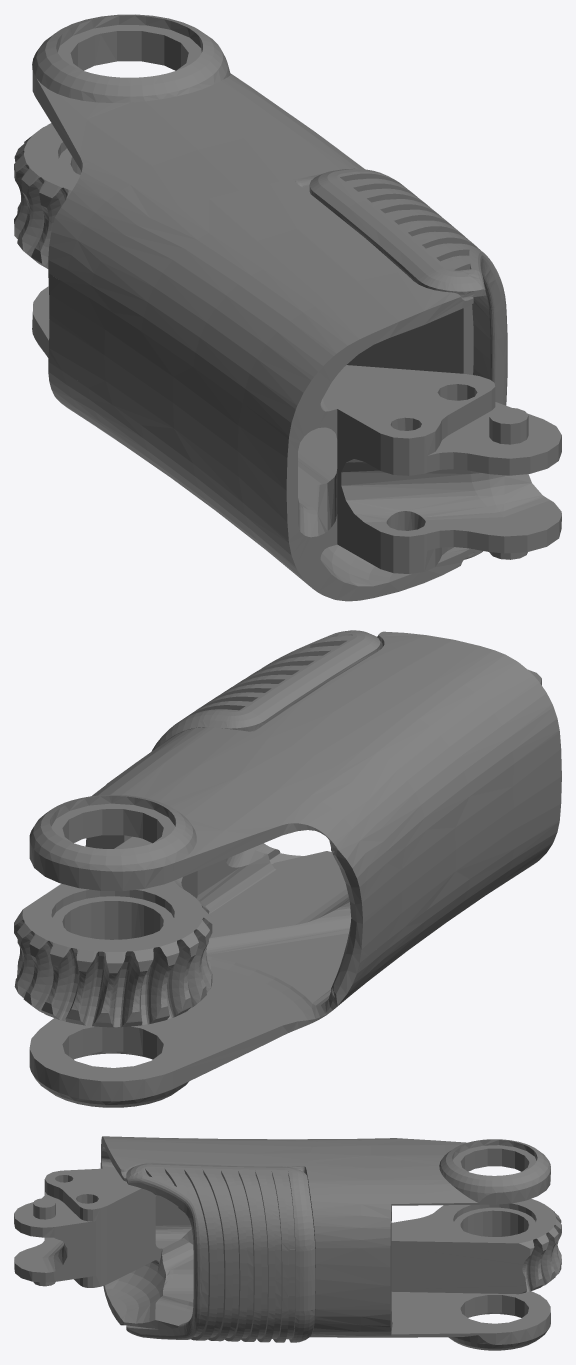
File: rh_middle_proximal_vis.obj
3 views of the same model, one above another, from view 1: azimuth 30°, elevation 25°; view 2: azimuth 150°, elevation 25°; view 3: azimuth 270°, elevation 25° (orthographic). The views are drawn at different scales.
Visible parts, largest first — view 1: rh_middle_proximal; view 2: rh_middle_proximal; view 3: rh_middle_proximal.
Part boxes in pixels (bbox=[...]): rh_middle_proximal: bbox=[14, 14, 561, 601]; rh_middle_proximal: bbox=[14, 630, 561, 1107]; rh_middle_proximal: bbox=[14, 1136, 561, 1350].
Bounding box in the file's own units: 0.0185 × 0.0168 × 0.0479.
Materials: 1 (1 with a texture image).
